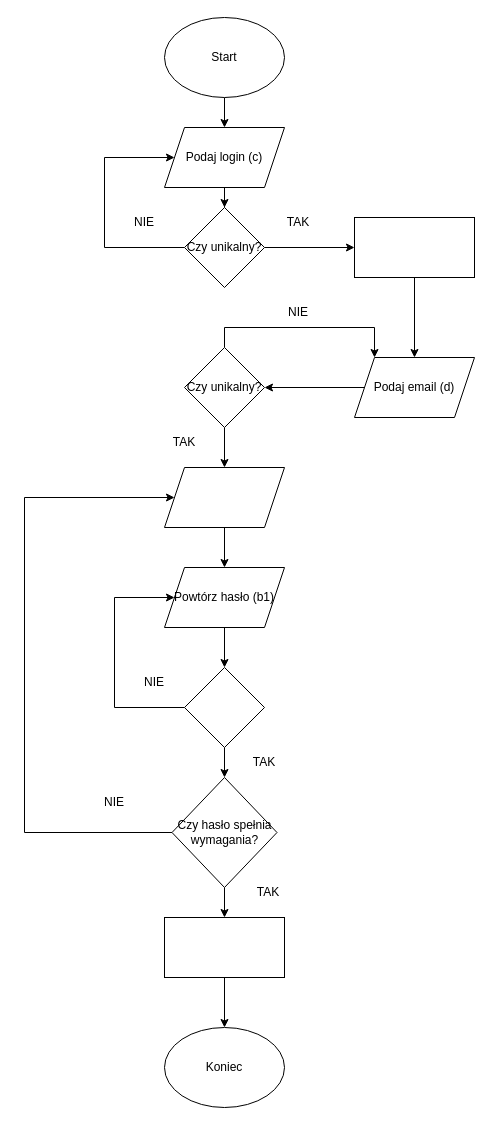
The diagram is 492 pixels wide and 1125 high, and some of its shapes have lost their labels. The centre of each missing label's shape, as x and y in pixels:
c poprawne: point 414,247
Czy b == b1: point 224,707
Podaj hasło (b): point 224,497
Pomyślna rejestracja: point 224,947
